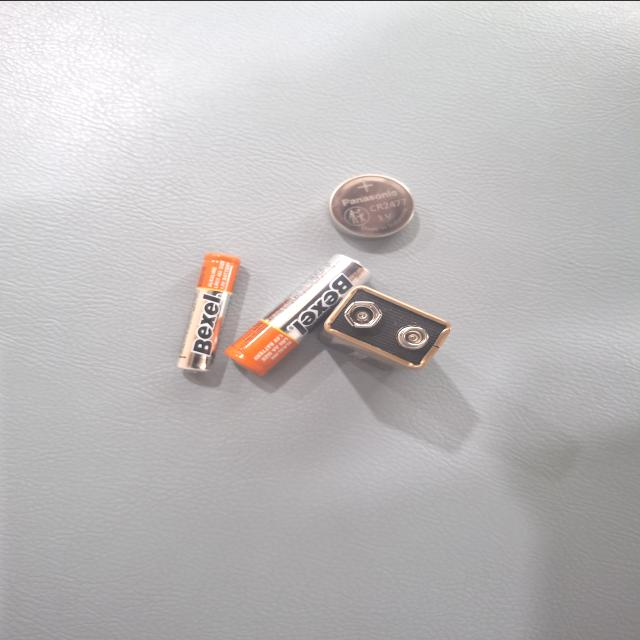9V: (374, 300, 494, 401)
AA: (339, 364, 500, 470)
AAA: (337, 459, 495, 509)
COIN: (231, 328, 317, 394)
